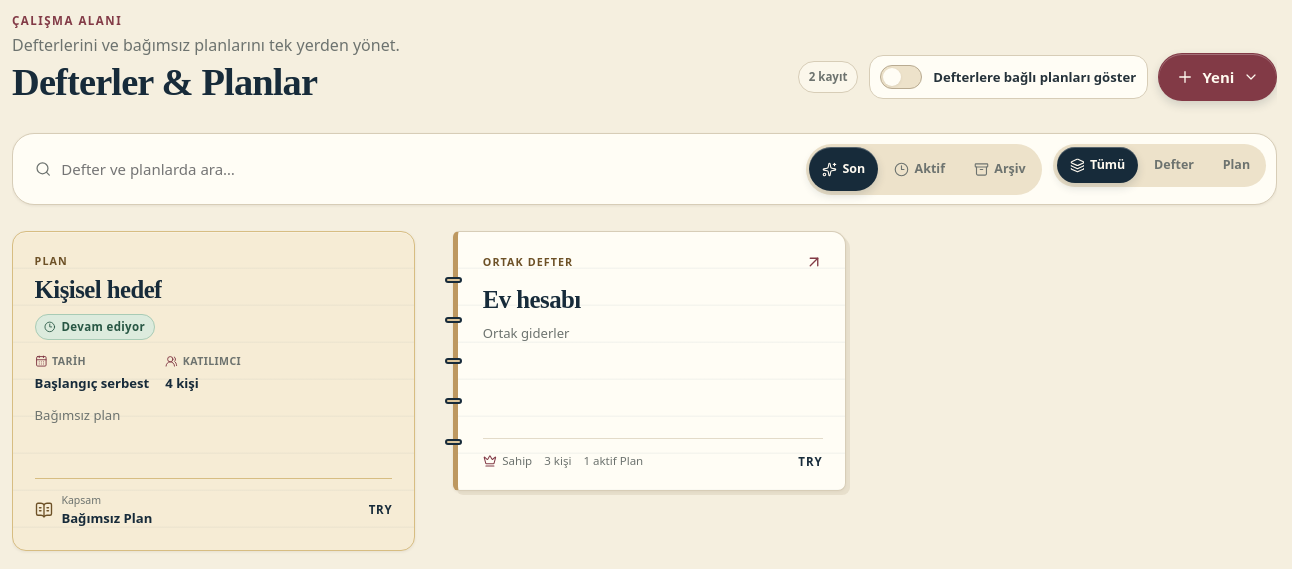
Test case: Defterler & Planlar workspace › searches names and descriptions across both kinds
The width and height of the screenshot is (1292, 569).
Type "bağımsız" into the field labelled "Defter ve planlarda ara". click: (196, 169)
box: [61, 149, 331, 190]
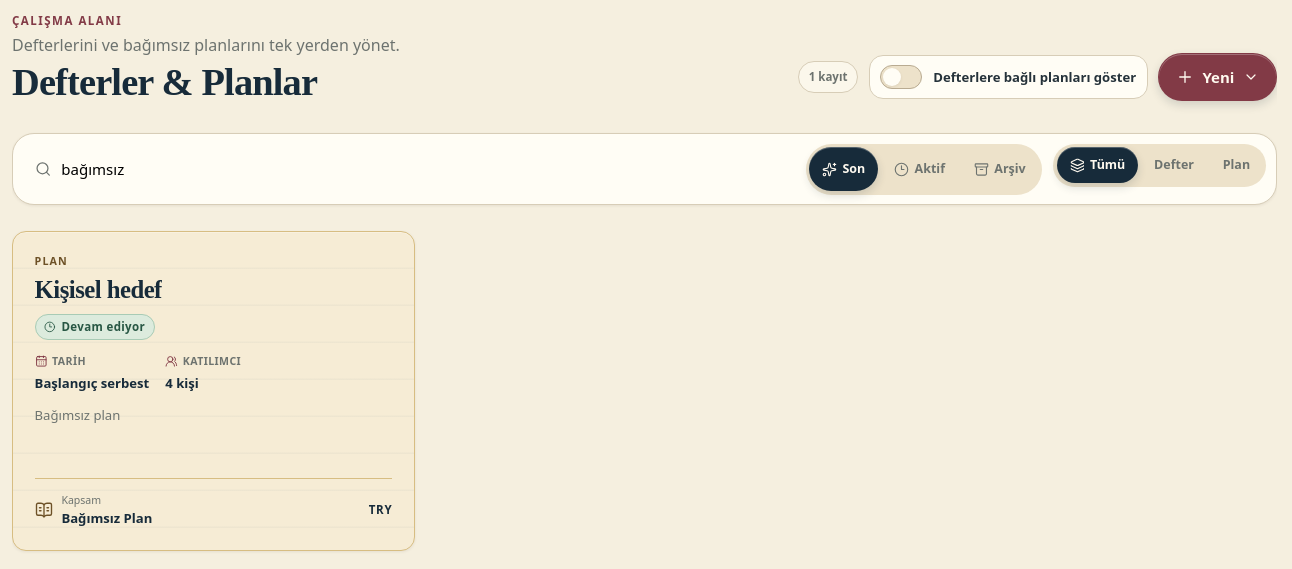
Expected: the link "Kişisel hedef" is shown, [12, 231, 415, 551]
Expected: the link to "/ledgers/ledger-1" is gone
